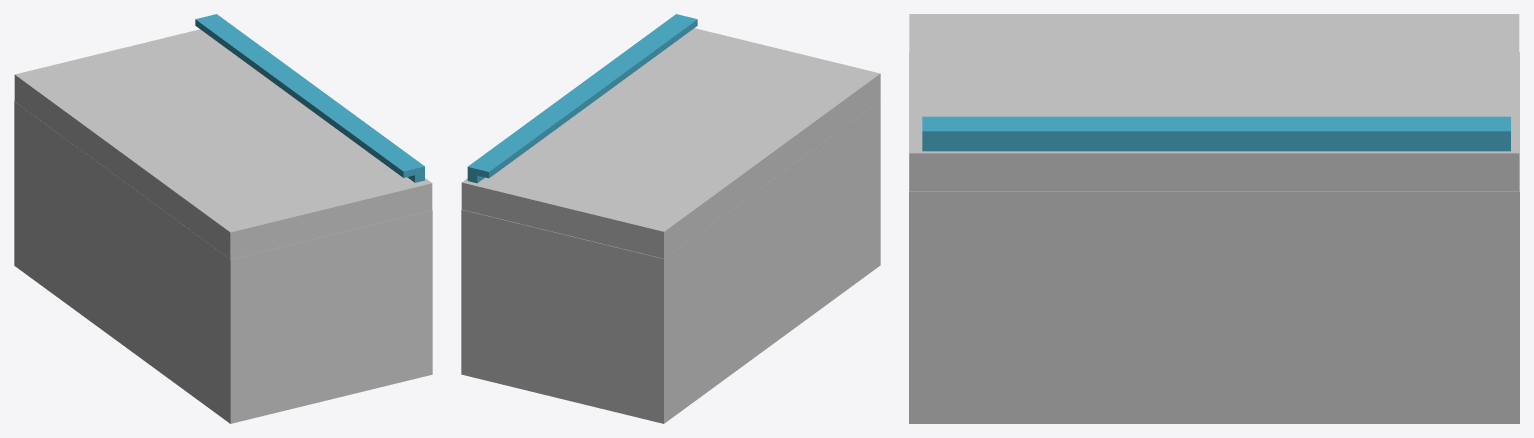
File: MDL_Fridge.fbx
3 views of the same model, side by side, from view 1: azimuth 30°, elevation 25°; view 2: azimuth 150°, elevation 25°; view 3: azimuth 270°, elevation 25° (orthographic). The views are drawn at different scales.
Parts seen in each view (by area): view 1: Fridge, FridgeDoor; view 2: Fridge, FridgeDoor; view 3: Fridge, FridgeDoor.
Part boxes in pixels (<box>): Fridge: <box>14,101,432,423</box>; FridgeDoor: <box>14,14,432,259</box>; Fridge: <box>461,100,880,423</box>; FridgeDoor: <box>461,14,880,258</box>; Fridge: <box>909,52,1519,423</box>; FridgeDoor: <box>909,14,1519,191</box>.
Bounding box in the file's own units: 159 × 154 × 294.
